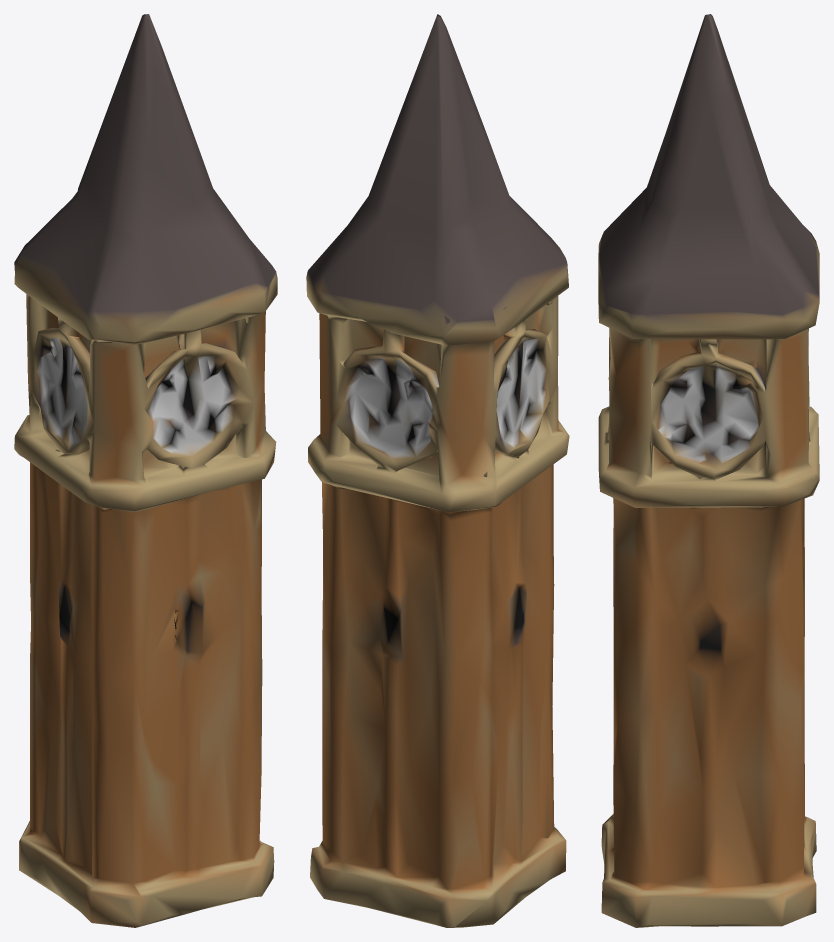
The model's file is gen3d-clock-tower-lod0.glb.
3 renders of one model, left to right at view 1: azimuth 30°, elevation 25°; view 2: azimuth 150°, elevation 25°; view 3: azimuth 270°, elevation 25°, orthographic.
Parts seen in each view (by area): view 1: part_0; view 2: part_0; view 3: part_0.
Part boxes in pixels (x1,y1,x2,y2): part_0: (14, 14, 277, 927); part_0: (306, 14, 569, 927); part_0: (598, 14, 819, 927).
Bounding box in the file's own units: 0.2222 × 0.9973 × 0.2218.
